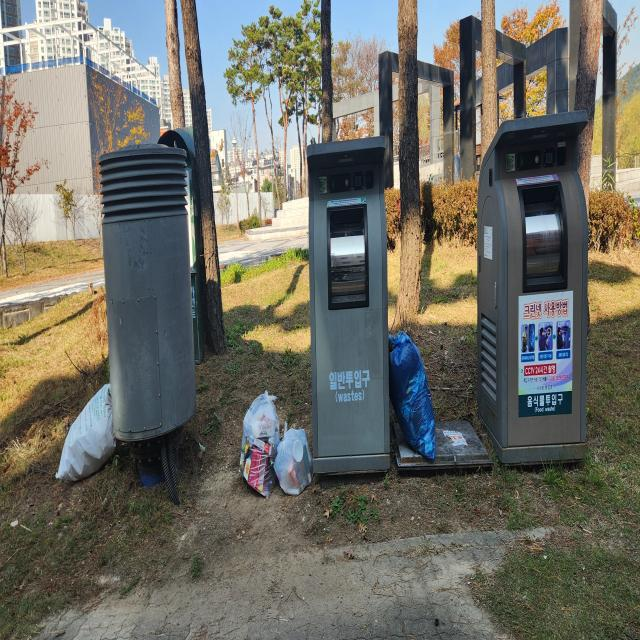CleanNet: (475, 107, 590, 466), (304, 140, 394, 478)
General Waste: (388, 331, 436, 461), (236, 390, 280, 492), (276, 412, 312, 496)
PP bag: (57, 384, 114, 482)
